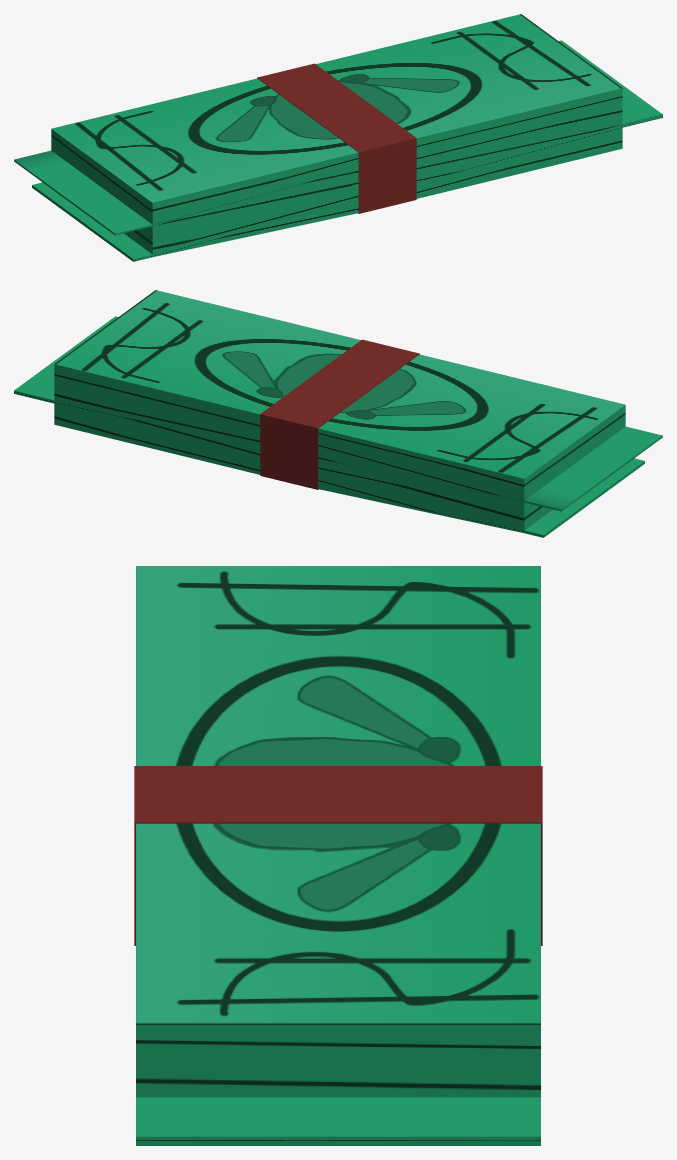
The model's file is money stack (sticking out bills v2).fbx.
3 renders of one model, top to bottom at view 1: azimuth 30°, elevation 25°; view 2: azimuth 150°, elevation 25°; view 3: azimuth 270°, elevation 25°, orthographic. The views are drawn at different scales.
Parts seen in each view (by area): view 1: Plane; view 2: Plane; view 3: Plane.
Part boxes in pixels (bbox=[...]): Plane: bbox=[14, 14, 662, 261]; Plane: bbox=[14, 290, 662, 537]; Plane: bbox=[134, 566, 542, 1145].
Size of the model in its own units: 704 by 75.84 by 227.
